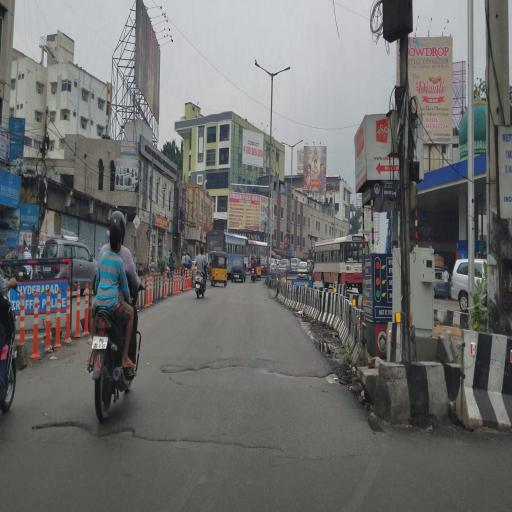street_light_0: (247, 52, 275, 86), (272, 58, 296, 86), (292, 132, 310, 152), (276, 135, 294, 153)
